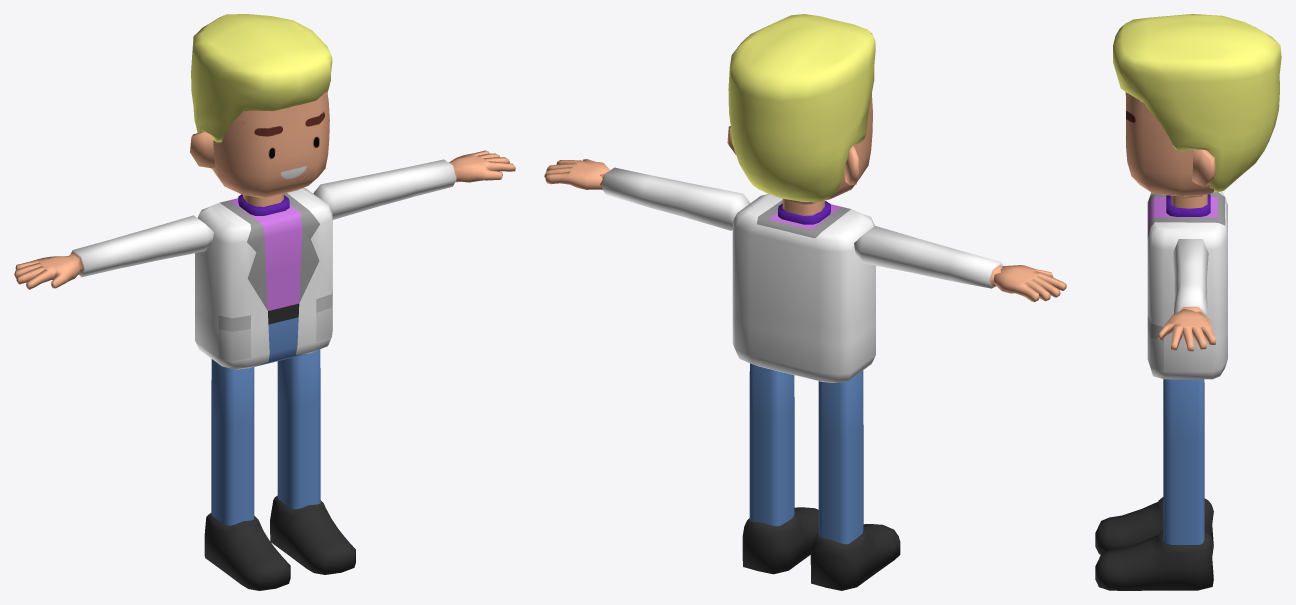
Rendered from NPC_White01_BlondeHair03.gltf.
3 renders of one model, left to right at view 1: azimuth 30°, elevation 25°; view 2: azimuth 150°, elevation 25°; view 3: azimuth 270°, elevation 25°, orthographic. The views are drawn at different scales.
Visible parts, largest first — view 1: NPC_Corpo_White1_BlondeHair.003; view 2: NPC_Corpo_White1_BlondeHair.003; view 3: NPC_Corpo_White1_BlondeHair.003.
Part boxes in pixels (x1,y1,x2,y2): NPC_Corpo_White1_BlondeHair.003: [14, 14, 515, 590]; NPC_Corpo_White1_BlondeHair.003: [544, 14, 1066, 590]; NPC_Corpo_White1_BlondeHair.003: [1095, 14, 1281, 590].
Size of the model in its own units: 2.31 by 2.31 by 0.7282.
1 material, 1 textured.
